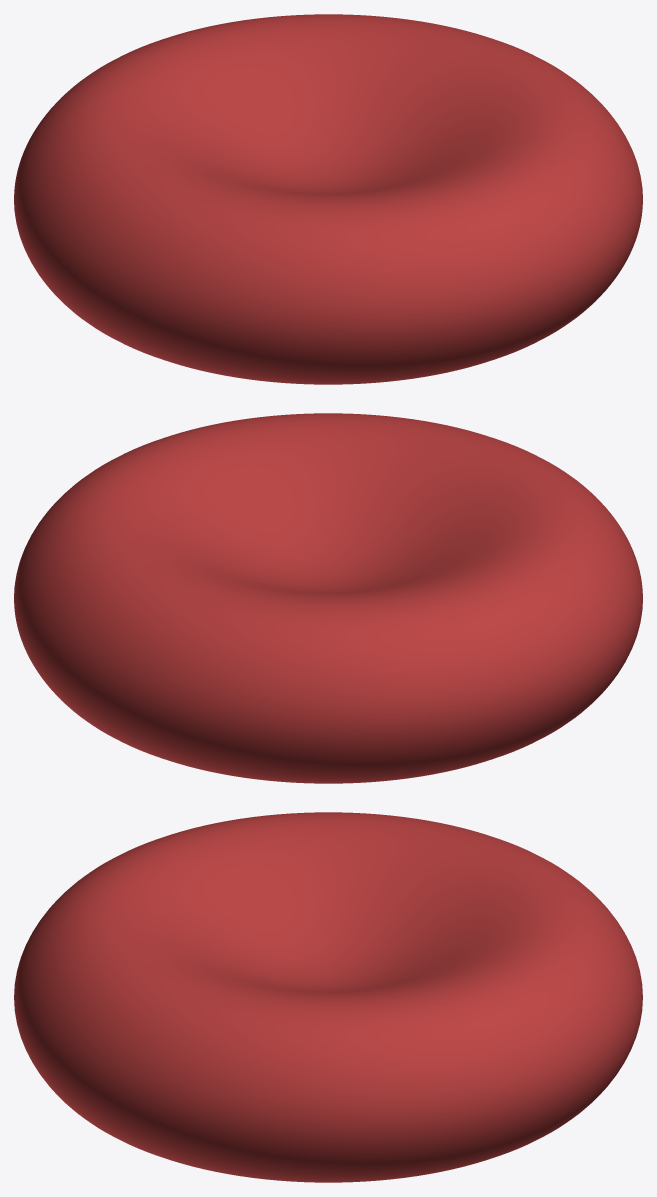
The model's file is red-blood-cell.glb.
The picture shows the model from 3 angles, top to bottom: view 1: azimuth 30°, elevation 25°; view 2: azimuth 150°, elevation 25°; view 3: azimuth 270°, elevation 25°; orthographic projection.
Visible parts, largest first — view 1: membrane; view 2: membrane; view 3: membrane.
Part boxes in pixels (bbox=[...]): membrane: bbox=[14, 14, 642, 384]; membrane: bbox=[14, 413, 642, 783]; membrane: bbox=[14, 812, 642, 1182].
Bounding box in the file's own units: 5.6 × 1.64 × 5.6.
